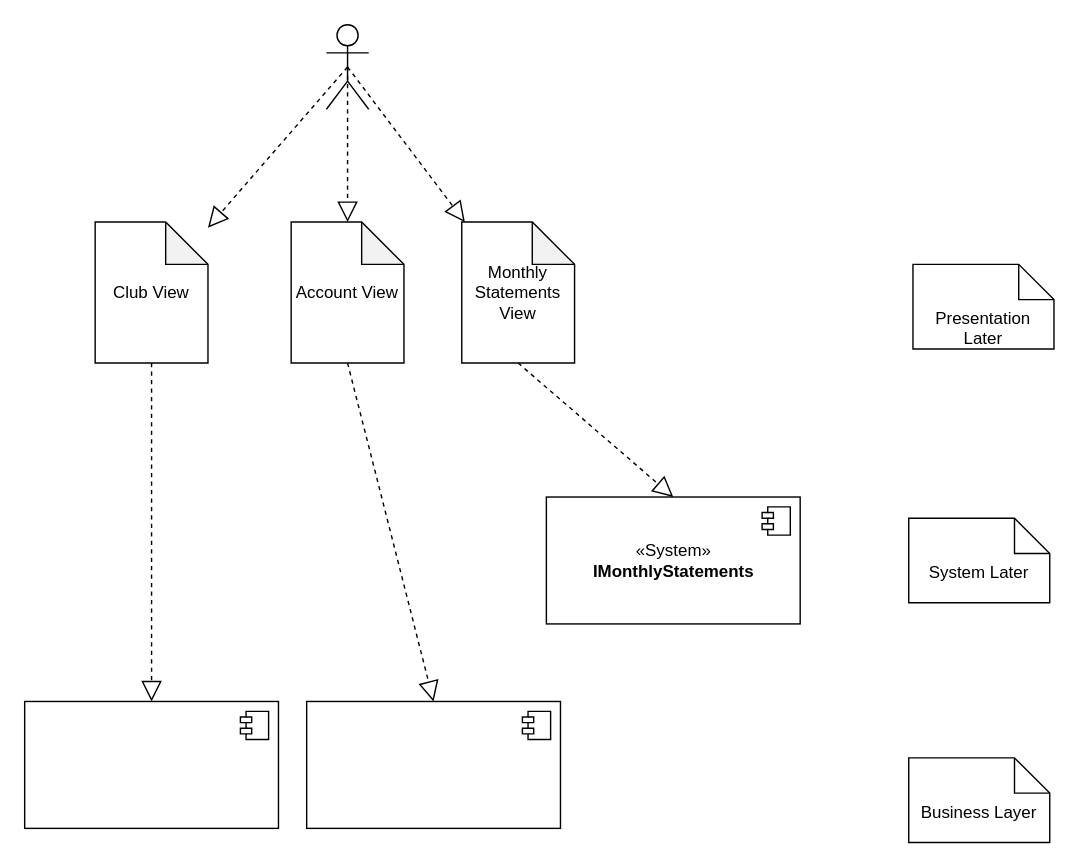
Some shapes in this 1079 by 867 pixel diagram are drawn without their labels. The shapes that lost their labels are listed below. From the top down, each one's box as (x1, y1, x2, y2) in pixels, then its label:
(325, 23, 369, 109): Account Manager
(23, 700, 278, 828): «Business» IClubMgt
(305, 700, 560, 828): «Business» IAccountMgt
